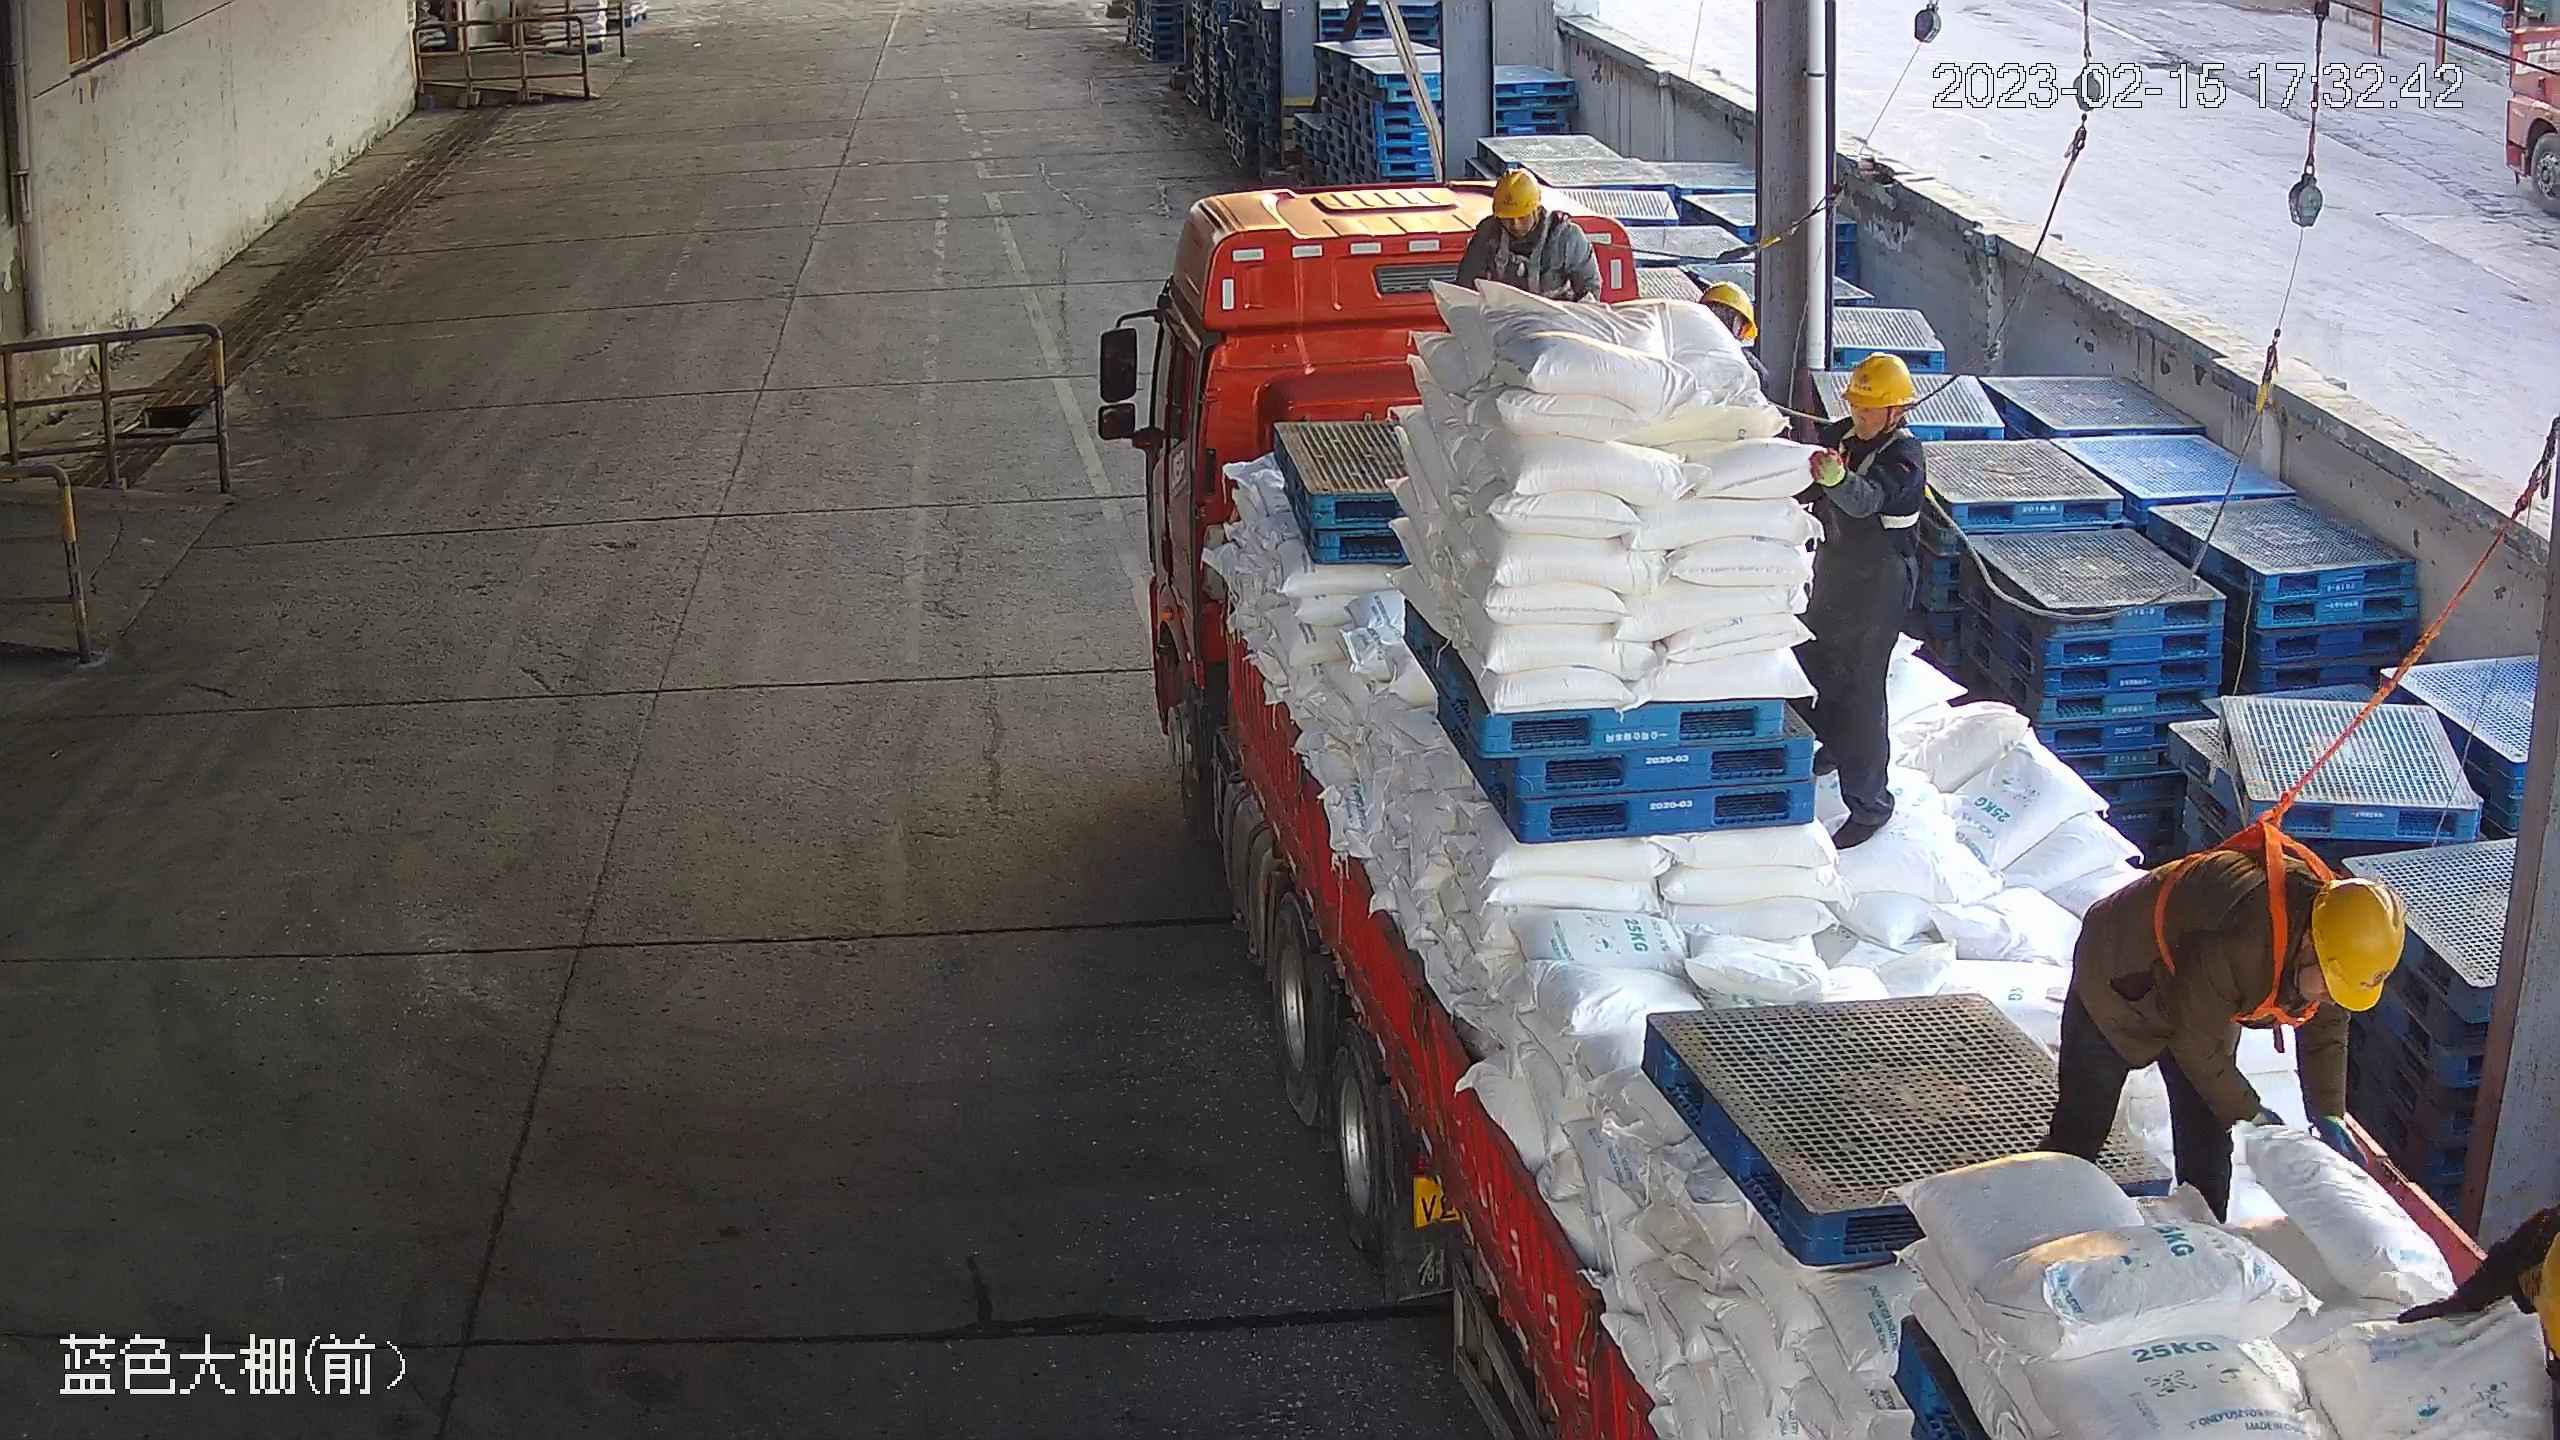belt: (2141, 819, 2343, 1031), (1834, 422, 1946, 536), (1480, 211, 1595, 300)
head: (2190, 831, 2408, 1030), (1814, 349, 1928, 486), (1470, 166, 1594, 257)
helmet: (2306, 876, 2407, 1014), (1840, 351, 1916, 410), (1698, 280, 1758, 341), (1490, 167, 1542, 220)
people: (2031, 846, 2407, 1224), (1796, 349, 1927, 852)
truck: (1145, 177, 2560, 1440)
